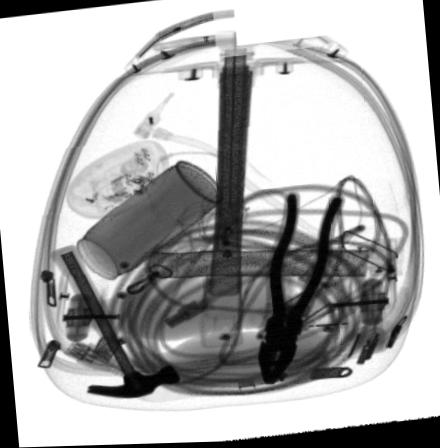Hammer: (49, 245, 179, 400)
Pliers: (252, 192, 346, 387)
